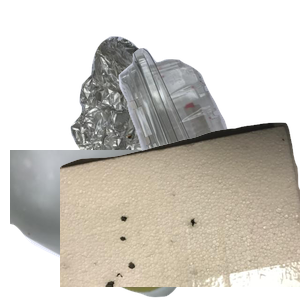glass: (10, 150, 190, 300)
metal: (68, 34, 300, 214)
plastic: (71, 45, 300, 225)
trash: (60, 120, 300, 300)
